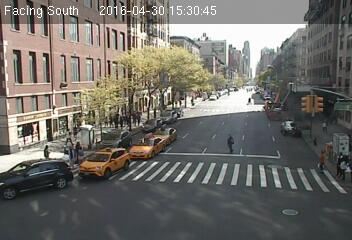neg: (29, 171, 53, 203), (22, 38, 46, 70), (302, 97, 325, 127), (148, 40, 170, 69), (192, 71, 213, 99), (261, 30, 282, 58), (79, 56, 100, 83), (312, 45, 333, 72), (270, 132, 289, 158), (166, 150, 185, 176), (111, 164, 130, 190), (279, 198, 297, 222), (126, 91, 143, 115), (194, 176, 211, 198), (240, 89, 254, 107), (281, 88, 294, 105)
pos: (332, 152, 351, 178), (220, 133, 238, 157), (57, 134, 74, 156), (316, 150, 331, 170), (73, 140, 87, 159), (40, 142, 52, 158)
